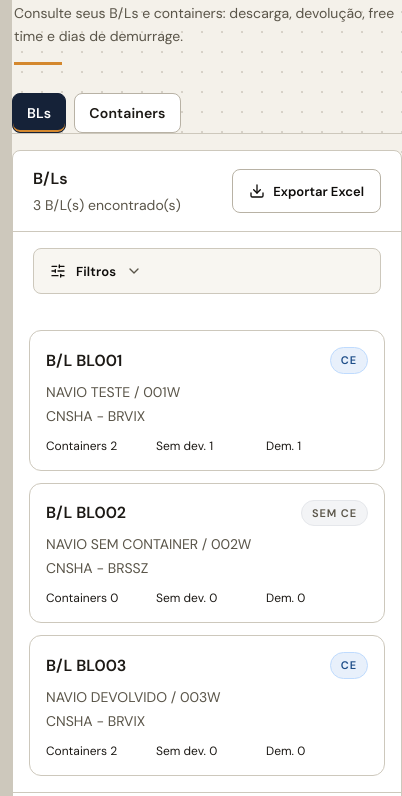
PortalOperacao (BLs e Containers) › renderiza cards mobile nas abas BLs e Containers
Expected: the element with test id "portal-operacao-bl-mobile-cards" shows "B/L BL001", [13,314,401,792]
Click the tab "Containers" at (128, 113), box [74,93,181,133]
(page scrolled)
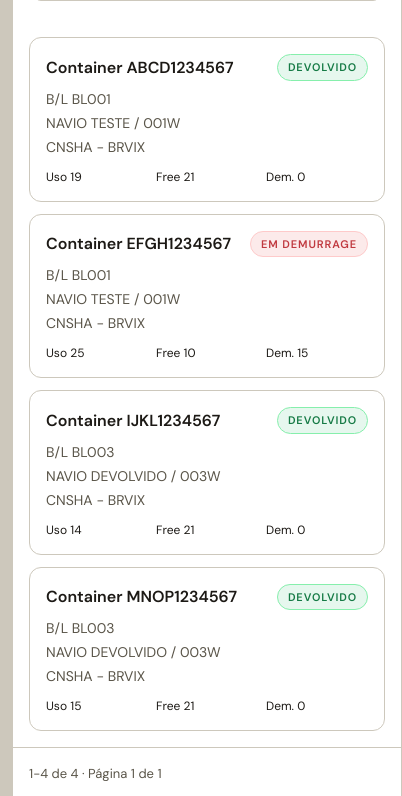
Result: the element with test id "portal-operacao-container-mobile-cards" shows "Container ABCD1234567"
